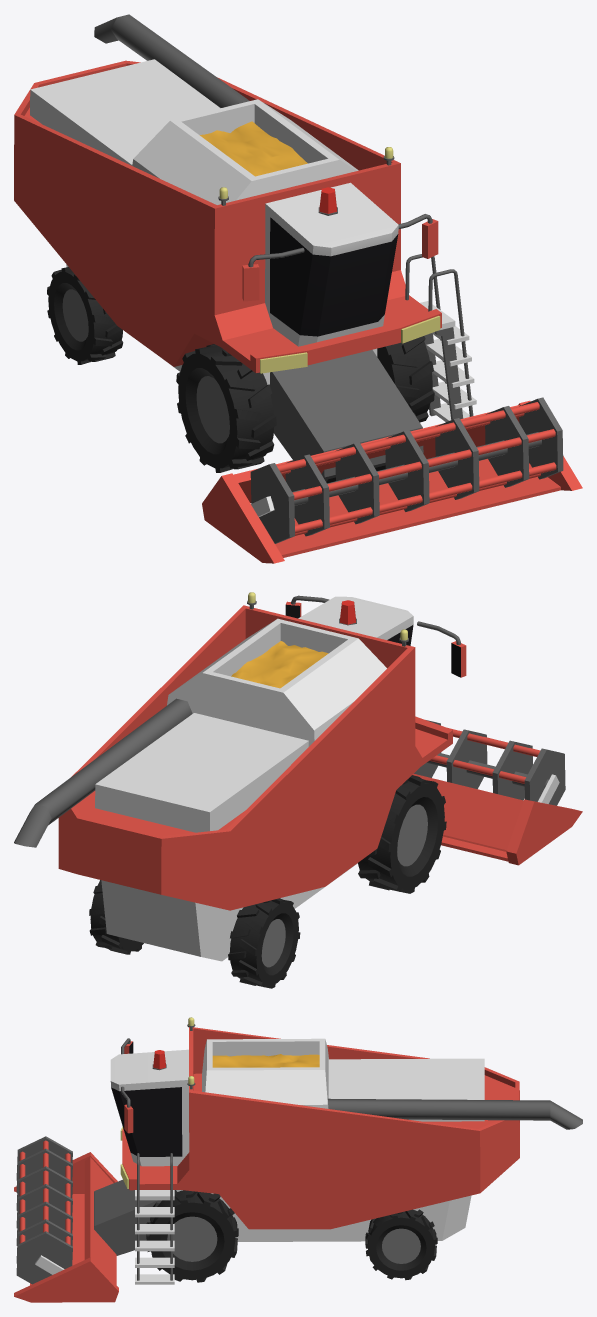
Rendered from Harvester_02.fbx.
The picture shows the model from 3 angles, top to bottom: view 1: azimuth 30°, elevation 25°; view 2: azimuth 150°, elevation 25°; view 3: azimuth 270°, elevation 25°; orthographic projection. The views are drawn at different scales.
Visible parts, largest first — view 1: Harvester_02, Harvester_02_Roll, Harvester_02_Roll_Cover, Harvester_02_Front_Tube; view 2: Harvester_02, Harvester_02_Roll_Cover, Harvester_02_Roll; view 3: Harvester_02, Harvester_02_Roll, Harvester_02_Roll_Cover, Harvester_02_Front_Tube.
Part boxes in pixels (box(x1,y1,x2,y2)): Harvester_02: box(14, 14, 476, 472); Harvester_02_Roll: box(250, 397, 563, 543); Harvester_02_Roll_Cover: box(202, 400, 582, 563); Harvester_02_Front_Tube: box(270, 349, 423, 483); Harvester_02: box(14, 592, 466, 988); Harvester_02_Roll_Cover: box(412, 773, 582, 865); Harvester_02_Roll: box(414, 720, 565, 805); Harvester_02: box(110, 1017, 582, 1284); Harvester_02_Roll: box(16, 1136, 72, 1284); Harvester_02_Roll_Cover: box(14, 1152, 118, 1302); Harvester_02_Front_Tube: box(94, 1179, 161, 1255).
Size of the model in its own units: 6.6 by 5.69 by 14.53.
